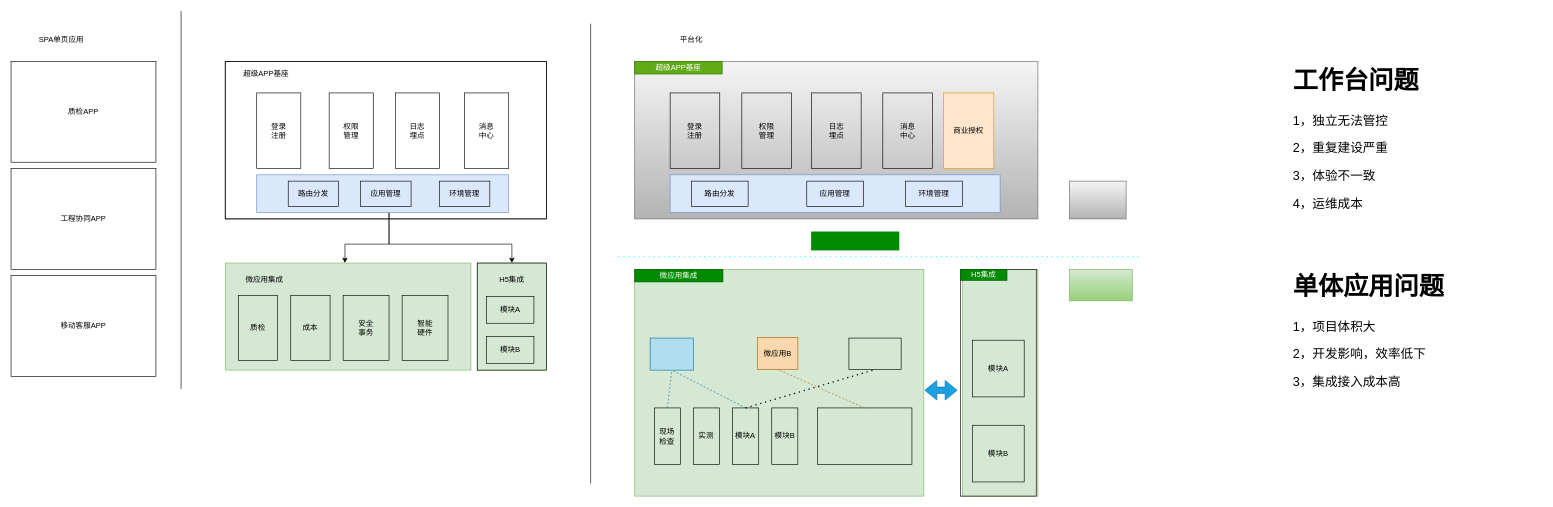
Image size: 1553x507. Some labels were removed from this diagram. The box of each missing label's shape, as (x1, y1, x2, y2) in pixels:
微应用A: (650, 337, 694, 370)
微应用C: (848, 337, 901, 370)
模块.......: (817, 407, 912, 465)
消息总线: (811, 231, 899, 250)
独立开发: (1069, 269, 1132, 301)
运营组合: (1069, 180, 1126, 219)
